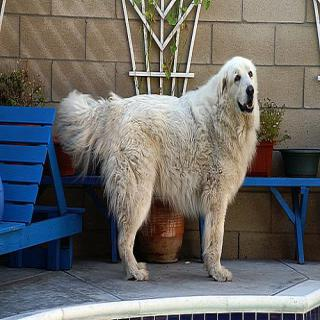dog: (204, 44, 263, 284)
